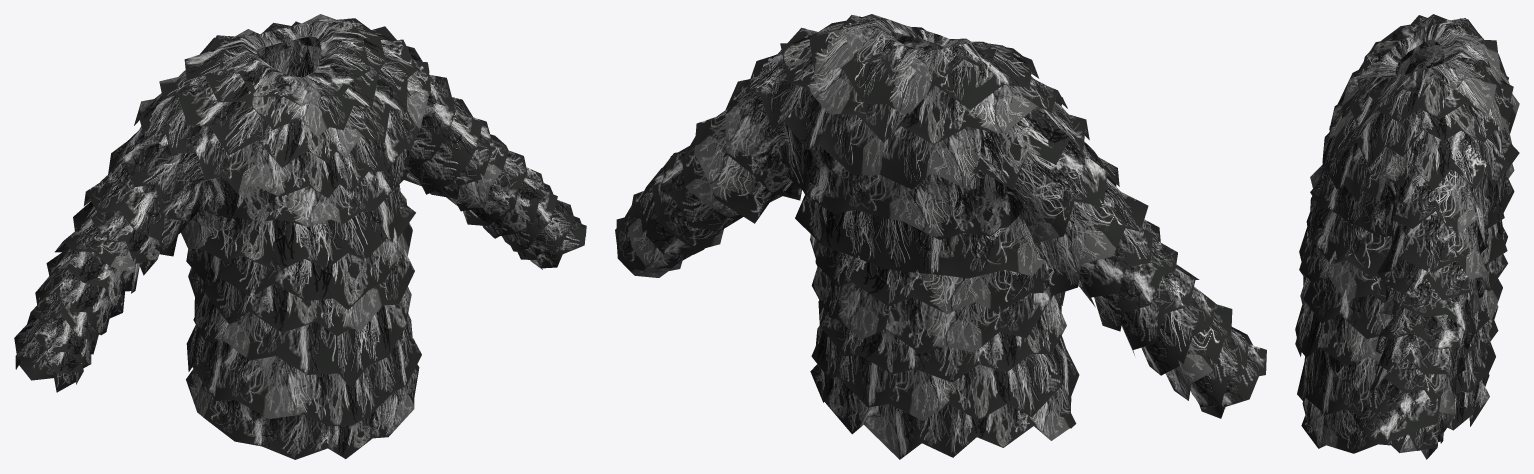
File: SurvivorMale_Chest_Shirt_Ghillie_LOD0.glb
The picture shows the model from 3 angles, left to right: view 1: azimuth 30°, elevation 25°; view 2: azimuth 150°, elevation 25°; view 3: azimuth 270°, elevation 25°; orthographic projection. The views are drawn at different scales.
Visible parts, largest first — view 1: Hoodie; view 2: Hoodie; view 3: Hoodie.
Part boxes in pixels (bbox=[...]): Hoodie: bbox=[14, 14, 586, 459]; Hoodie: bbox=[615, 14, 1266, 459]; Hoodie: bbox=[1295, 14, 1519, 459].
Bounding box in the file's own units: 1.26 × 0.8156 × 0.4255.
Materials: 1 (1 with a texture image).
